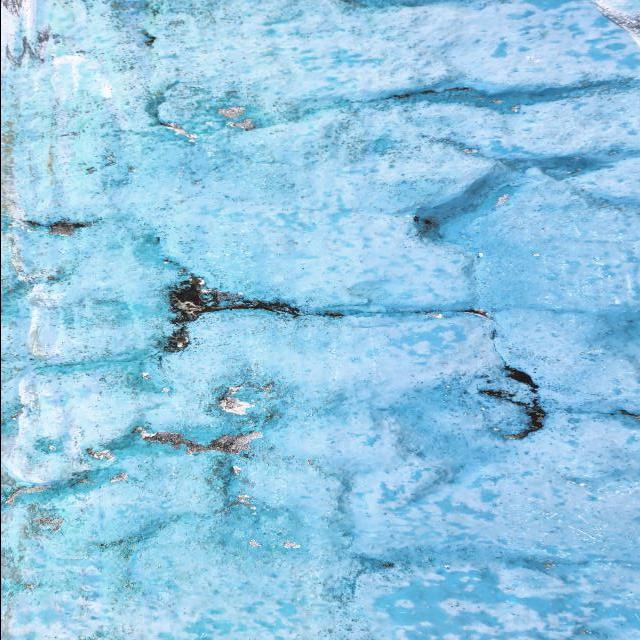SurfaceCrack: (1, 225, 638, 486)
